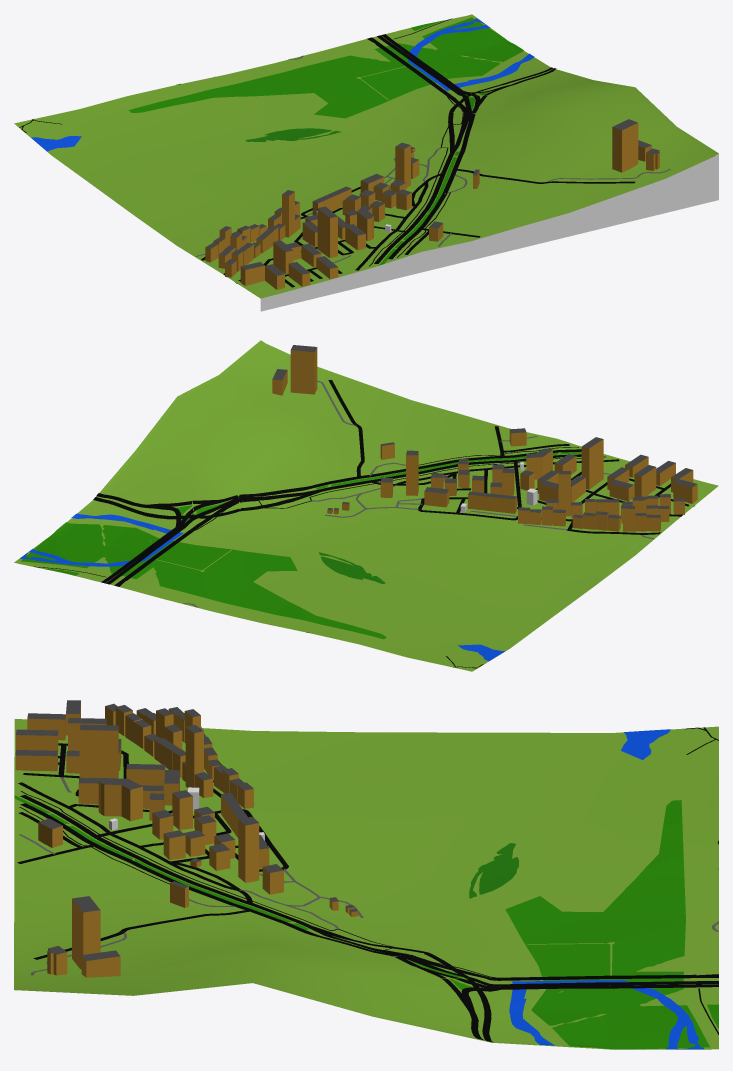
File: tile_01_00.glb
The picture shows the model from 3 angles, top to bottom: view 1: azimuth 30°, elevation 25°; view 2: azimuth 150°, elevation 25°; view 3: azimuth 270°, elevation 25°; orthographic projection. The views are drawn at different scales.
Parts seen in each view (by area): view 1: Terrain_01_00, Ub_small.osm_buildings_01_00, Ub_small.osm_vegetation_01_00, Ub_small.osm_roads_trunk_01_00, Ub_small.osm_roads_residential_01_00, Ub_small.osm_water_01_00, Ub_small.osm_forest_01_00, Ub_small.osm_paths_footway_01_00, Ub_small.osm_roads_service_01_00; view 2: Terrain_01_00, Ub_small.osm_buildings_01_00, Ub_small.osm_vegetation_01_00, Ub_small.osm_roads_trunk_01_00, Ub_small.osm_roads_residential_01_00, Ub_small.osm_water_01_00, Ub_small.osm_roads_service_01_00, Ub_small.osm_paths_footway_01_00, Ub_small.osm_forest_01_00, Ub_small.osm_roads_primary_01_00; view 3: Terrain_01_00, Ub_small.osm_buildings_01_00, Ub_small.osm_vegetation_01_00, Ub_small.osm_roads_trunk_01_00, Ub_small.osm_roads_residential_01_00, Ub_small.osm_water_01_00, Ub_small.osm_forest_01_00, Ub_small.osm_paths_footway_01_00, Ub_small.osm_roads_service_01_00, Ub_small.osm_roads_primary_01_00.
Part boxes in pixels (x1=…): Terrain_01_00: x1=14, y1=14, x2=718, y2=311; Ub_small.osm_buildings_01_00: x1=205, y1=119, x2=659, y2=289; Ub_small.osm_vegetation_01_00: x1=129, y1=17, x2=523, y2=265; Ub_small.osm_roads_trunk_01_00: x1=367, y1=34, x2=552, y2=263; Ub_small.osm_roads_residential_01_00: x1=201, y1=168, x2=634, y2=287; Ub_small.osm_water_01_00: x1=31, y1=18, x2=534, y2=151; Ub_small.osm_forest_01_00: x1=245, y1=128, x2=341, y2=141; Ub_small.osm_paths_footway_01_00: x1=19, y1=18, x2=463, y2=266; Ub_small.osm_roads_service_01_00: x1=195, y1=55, x2=670, y2=263; Terrain_01_00: x1=14, y1=340, x2=718, y2=671; Ub_small.osm_buildings_01_00: x1=272, y1=345, x2=697, y2=531; Ub_small.osm_vegetation_01_00: x1=21, y1=451, x2=581, y2=639; Ub_small.osm_roads_trunk_01_00: x1=93, y1=449, x2=581, y2=586; Ub_small.osm_roads_residential_01_00: x1=328, y1=380, x2=694, y2=534; Ub_small.osm_water_01_00: x1=20, y1=513, x2=504, y2=660; Ub_small.osm_roads_service_01_00: x1=183, y1=380, x2=653, y2=625; Ub_small.osm_paths_footway_01_00: x1=34, y1=447, x2=605, y2=668; Ub_small.osm_forest_01_00: x1=319, y1=552, x2=385, y2=583; Ub_small.osm_roads_primary_01_00: x1=96, y1=493, x2=219, y2=527; Terrain_01_00: x1=14, y1=719, x2=718, y2=1049; Ub_small.osm_buildings_01_00: x1=15, y1=700, x2=358, y2=977; Ub_small.osm_vegetation_01_00: x1=14, y1=795, x2=718, y2=1049; Ub_small.osm_roads_trunk_01_00: x1=20, y1=795, x2=718, y2=1042; Ub_small.osm_roads_residential_01_00: x1=17, y1=743, x2=288, y2=959; Ub_small.osm_water_01_00: x1=509, y1=729, x2=703, y2=1049; Ub_small.osm_forest_01_00: x1=469, y1=843, x2=518, y2=898; Ub_small.osm_paths_footway_01_00: x1=19, y1=727, x2=718, y2=1034; Ub_small.osm_roads_service_01_00: x1=19, y1=726, x2=718, y2=975; Ub_small.osm_roads_primary_01_00: x1=417, y1=967, x2=501, y2=1040.
Size of the model in its own units: 980 by 150 by 913.
